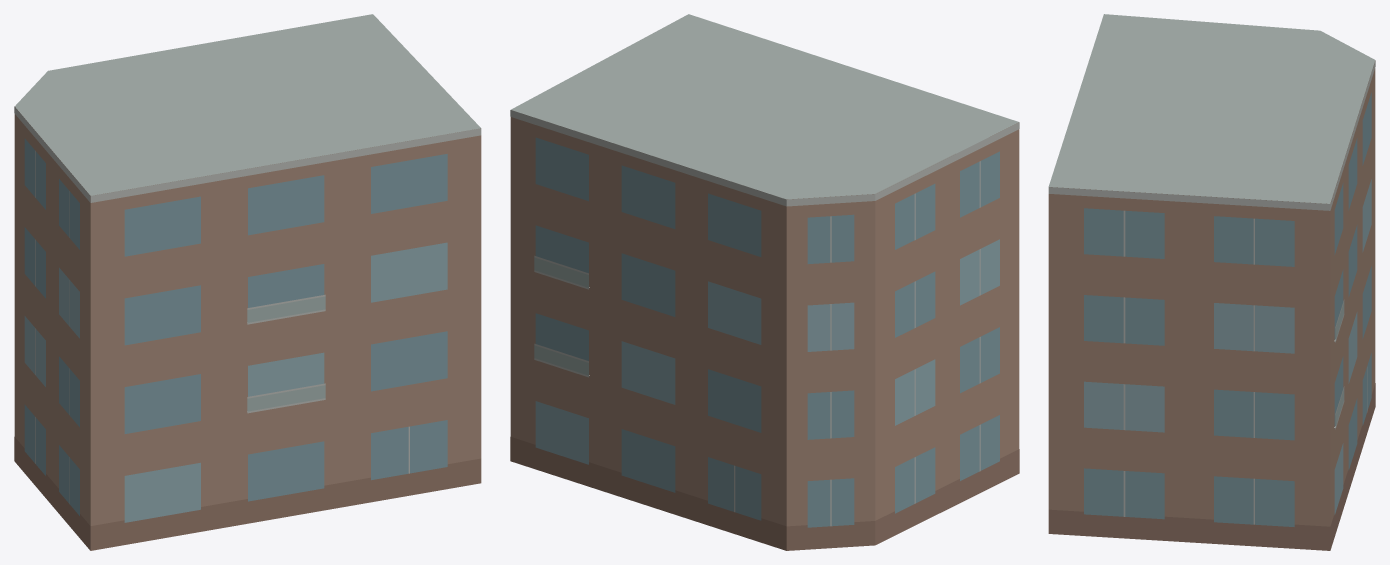
File: survey-upis-32651963.glb
The picture shows the model from 3 angles, left to right: view 1: azimuth 30°, elevation 25°; view 2: azimuth 150°, elevation 25°; view 3: azimuth 270°, elevation 25°; orthographic projection. The views are drawn at different scales.
Parts seen in each view (by area): view 1: survey-upis-32651963.tmp; view 2: survey-upis-32651963.tmp; view 3: survey-upis-32651963.tmp.
Boxes of the visible parts, x1,y1,x2,y2 form: survey-upis-32651963.tmp: [14, 14, 481, 550]; survey-upis-32651963.tmp: [510, 14, 1019, 550]; survey-upis-32651963.tmp: [1048, 14, 1375, 550].
Bounding box in the file's own units: 14.34 × 12.2 × 10.43.
